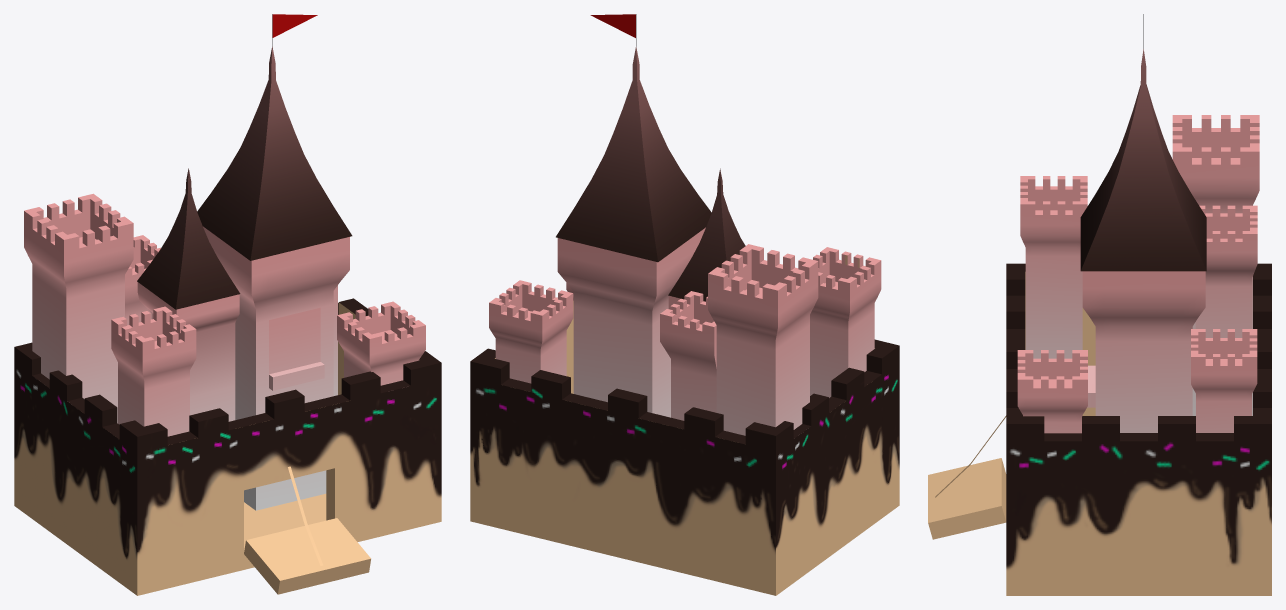
The model's file is castle_unwrap.FBX.
3 views of the same model, side by side, from view 1: azimuth 30°, elevation 25°; view 2: azimuth 150°, elevation 25°; view 3: azimuth 270°, elevation 25° (orthographic). The views are drawn at different scales.
Visible parts, largest first — view 1: Box001; view 2: Box001; view 3: Box001.
Boxes of the visible parts, x1,y1,x2,y2 form: Box001: (14,14,441,595); Box001: (470,14,899,595); Box001: (928,14,1271,595).
Size of the model in its own units: 200 by 306 by 181.
1 material, 1 textured.
